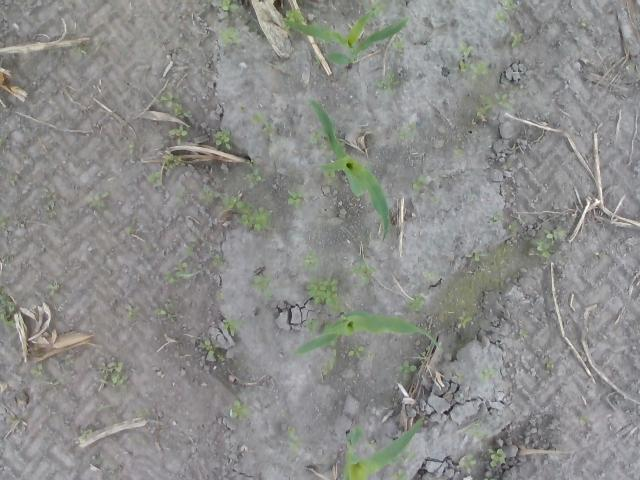Maize: (307, 98, 390, 242), (282, 1, 409, 68), (292, 312, 443, 359), (342, 415, 426, 480)
Weeds: (222, 195, 270, 231), (306, 276, 342, 310), (458, 42, 491, 78), (536, 230, 566, 264), (164, 262, 197, 284), (100, 362, 126, 389), (156, 93, 186, 115), (349, 261, 377, 284), (377, 70, 400, 94), (495, 0, 517, 24), (252, 274, 272, 300), (0, 294, 16, 326), (168, 123, 188, 148), (81, 192, 108, 210), (466, 422, 488, 444), (458, 454, 478, 477), (285, 8, 304, 32), (251, 113, 273, 133), (229, 401, 249, 421), (42, 188, 56, 216), (489, 448, 507, 469), (478, 94, 493, 118), (218, 26, 236, 46), (397, 123, 418, 140), (214, 131, 232, 150), (200, 341, 220, 358), (396, 360, 416, 377), (288, 426, 302, 450), (164, 154, 182, 172), (221, 318, 244, 332), (246, 170, 262, 190), (496, 92, 516, 107), (288, 190, 306, 206), (152, 310, 172, 324), (202, 186, 218, 202), (218, 0, 239, 12), (302, 252, 316, 270), (147, 172, 162, 188), (410, 295, 424, 310), (349, 347, 364, 360), (510, 33, 524, 46), (212, 254, 225, 268), (31, 364, 45, 377), (412, 175, 423, 190), (466, 252, 486, 260), (394, 469, 408, 480), (481, 369, 495, 380), (82, 429, 94, 441), (394, 41, 409, 50), (490, 212, 500, 224), (128, 142, 136, 156), (428, 272, 440, 281), (128, 307, 138, 317), (48, 283, 58, 293), (580, 415, 590, 424), (187, 246, 196, 255), (508, 222, 516, 232), (546, 362, 554, 372), (406, 449, 414, 458), (124, 226, 132, 235), (520, 330, 526, 338)
